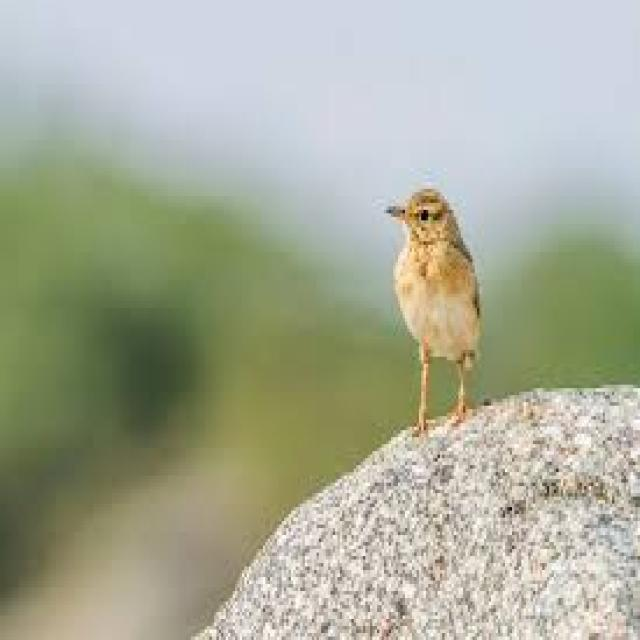bird: (375, 172, 493, 444)
